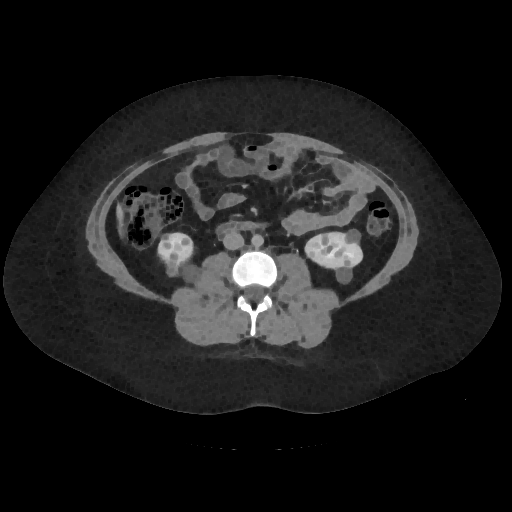Lesion: (163, 256, 183, 279)
